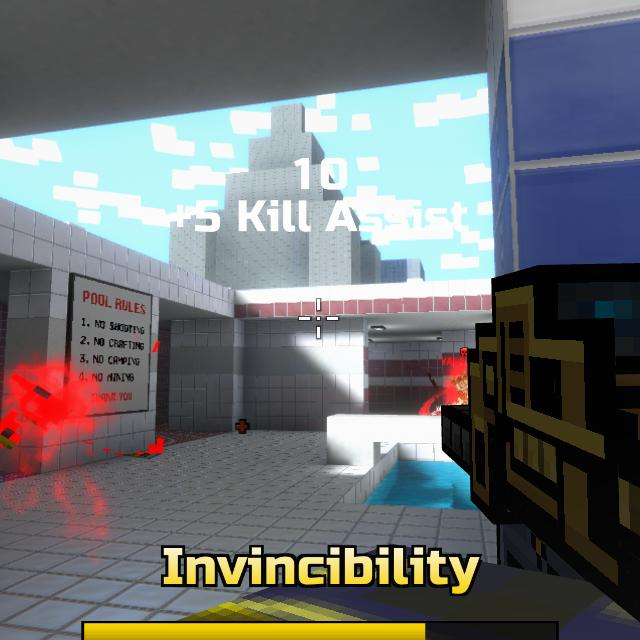Enemy: (450, 371, 468, 405)
